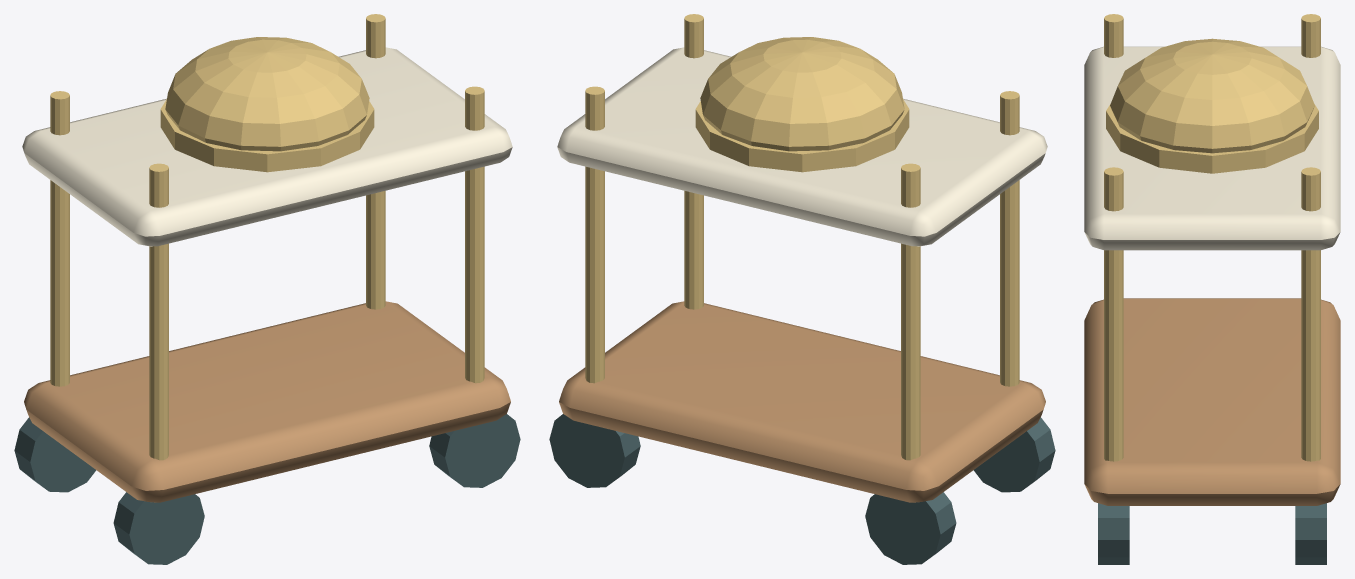
Rendered from service-trolley.glb.
3 renders of one model, left to right at view 1: azimuth 30°, elevation 25°; view 2: azimuth 150°, elevation 25°; view 3: azimuth 270°, elevation 25°, orthographic.
Visible parts, largest first — view 1: Lower tray, Serving tray, Sphere, Brass frame, Brass frame.002, Wheel, Brass frame.001, Cloche base, Wheel.002, Wheel.001, Brass frame.003; view 2: Lower tray, Serving tray, Sphere, Brass frame.001, Brass frame.003, Wheel.001, Brass frame, Cloche base, Wheel.003, Wheel, Brass frame.002; view 3: Lower tray, Serving tray, Sphere, Brass frame.002, Brass frame.003, Cloche base, Wheel.002, Wheel.003, Brass frame, Brass frame.001.
Part boxes in pixels (box(x1,y1,x2,y2)): Lower tray: box(24, 301, 510, 502); Serving tray: box(22, 47, 512, 246); Sphere: box(165, 37, 369, 151); Brass frame: box(149, 163, 168, 460); Brass frame.002: box(465, 86, 484, 383); Wheel: box(113, 492, 204, 564); Brass frame.001: box(50, 91, 69, 386); Cloche base: box(160, 99, 374, 172); Wheel.002: box(429, 414, 520, 487); Wheel.001: box(14, 417, 96, 492); Brass frame.003: box(366, 14, 385, 309); Lower tray: box(559, 301, 1045, 502); Serving tray: box(557, 47, 1047, 246); Sphere: box(700, 37, 904, 151); Brass frame.001: box(901, 163, 920, 460); Brass frame.003: box(585, 86, 604, 383); Wheel.001: box(865, 492, 956, 564); Brass frame: box(1000, 91, 1019, 386); Cloche base: box(695, 99, 909, 172); Wheel.003: box(549, 414, 640, 487); Wheel: box(973, 417, 1055, 492); Brass frame.002: box(684, 14, 703, 309); Lower tray: box(1084, 298, 1340, 505); Serving tray: box(1084, 46, 1340, 250); Sphere: box(1110, 38, 1314, 153); Brass frame.002: box(1104, 167, 1123, 461); Brass frame.003: box(1301, 167, 1320, 461); Cloche base: box(1106, 104, 1318, 173); Wheel.002: box(1098, 503, 1129, 564); Wheel.003: box(1295, 503, 1326, 564); Brass frame: box(1104, 14, 1123, 57); Brass frame.001: box(1301, 14, 1320, 57).
Size of the model in its own units: 1.14 by 1.2 by 0.65.
